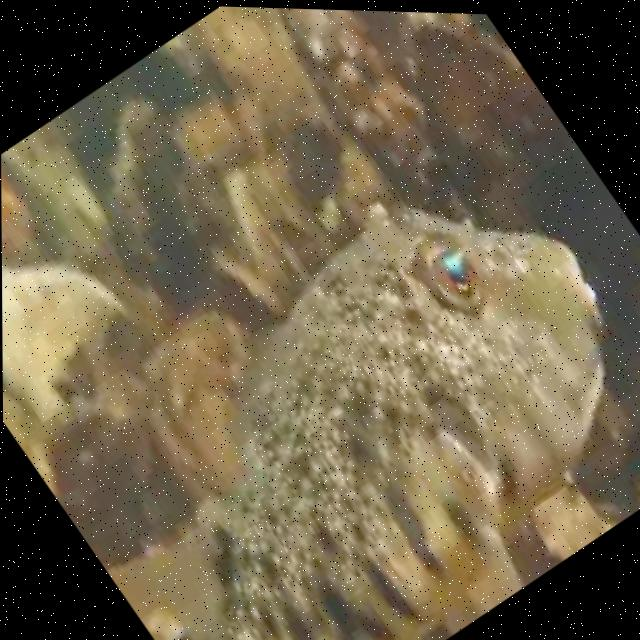Oyster-Closed: (98, 95, 176, 300)
Oyster-Indeterminate: (413, 13, 618, 245), (291, 9, 469, 223), (151, 309, 277, 501), (2, 265, 116, 427), (49, 406, 156, 517)
